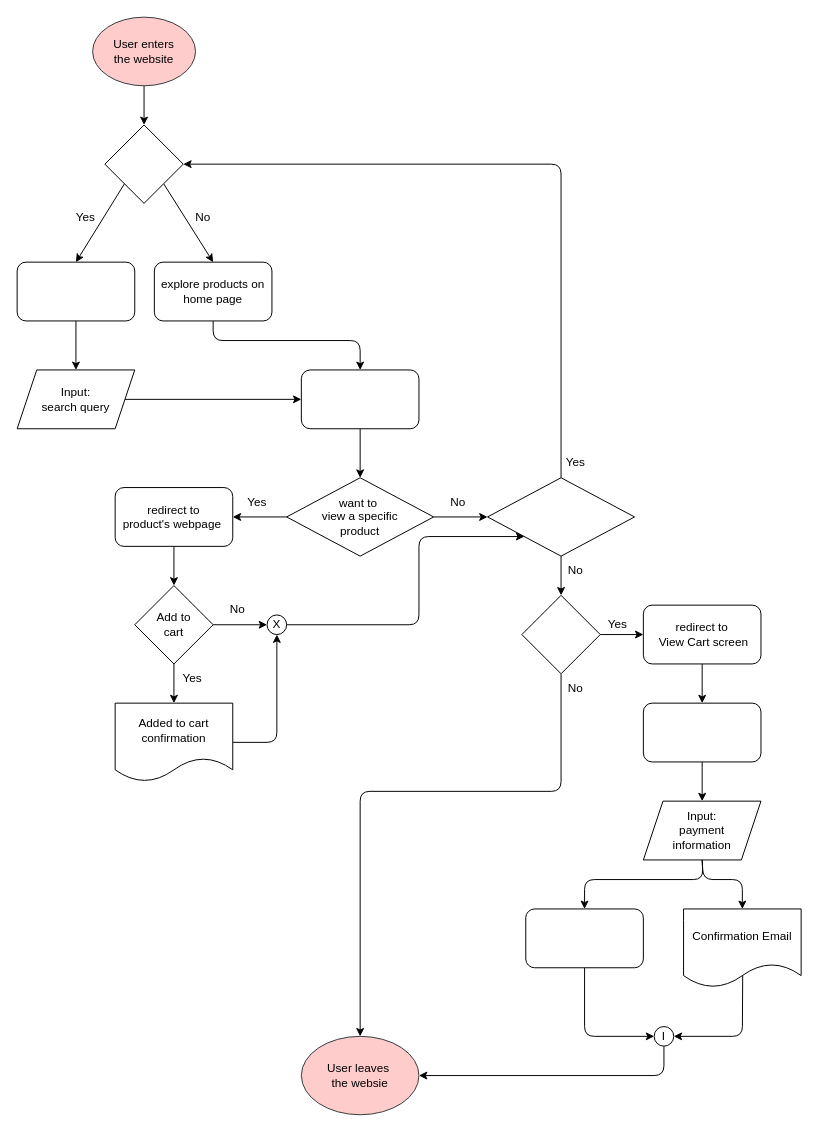
Some shapes in this 818 by 1132 pixel diagram are drawn without their labels. Each missing label, with the centre of its shape:
"look over the products" belongs at (x=359, y=399).
"redirect to Order Confirmation screen" belongs at (x=584, y=938).
"redirect to View Payment screen" belongs at (x=701, y=732).
"search for a product" belongs at (x=75, y=291).
"want to checkout" belongs at (x=560, y=634).
"want to continue shopping" belongs at (x=561, y=516).
"want to search" belongs at (x=143, y=163).
